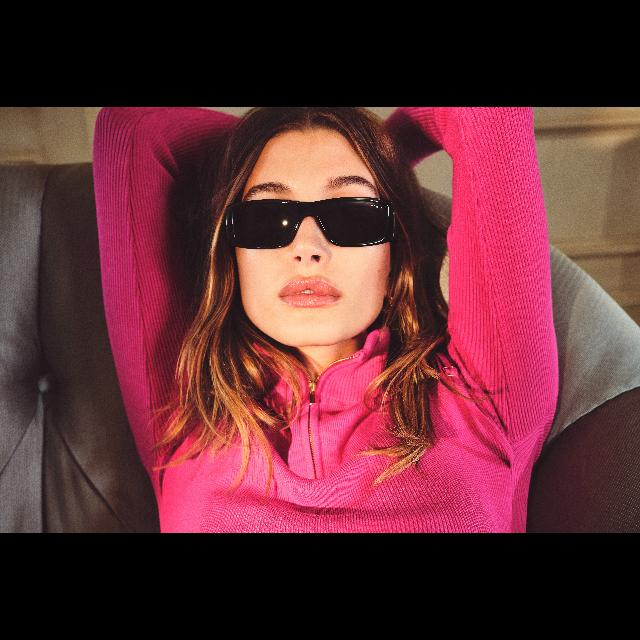Sunglasses: (226, 197, 397, 249)
